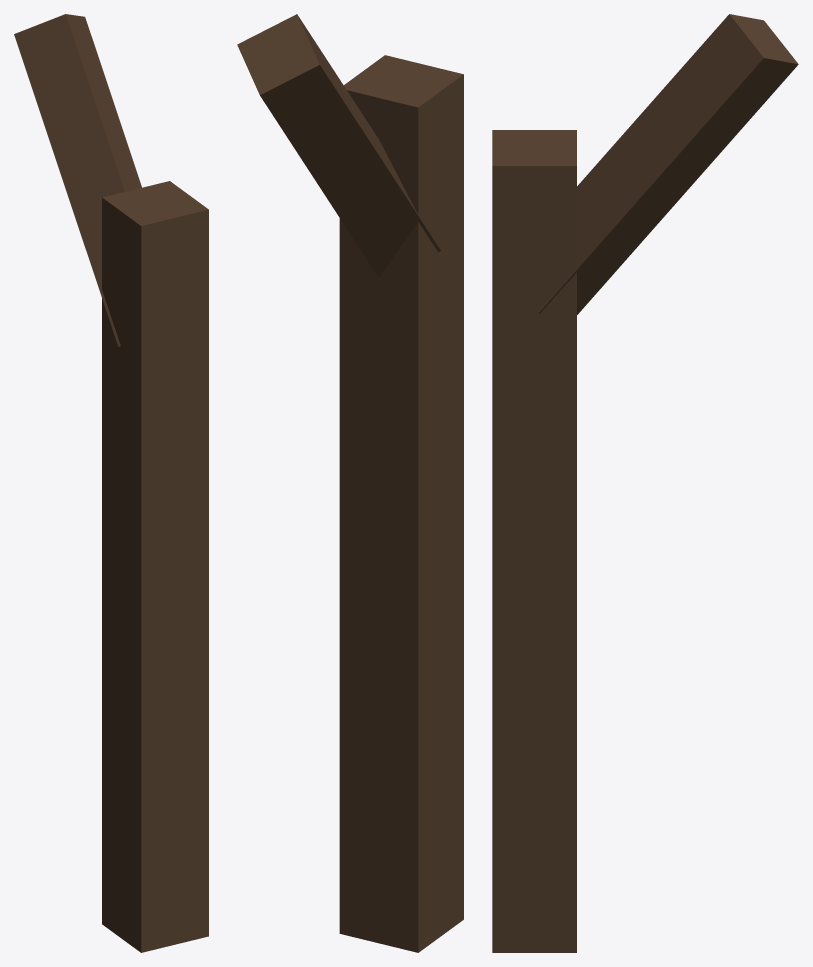
Rendered from pentice_post.glb.
3 renders of one model, left to right at view 1: azimuth 30°, elevation 25°; view 2: azimuth 150°, elevation 25°; view 3: azimuth 270°, elevation 25°, orthographic. The views are drawn at different scales.
Visible parts, largest first — view 1: Pentice post; view 2: Pentice post; view 3: Pentice post.
Part boxes in pixels (left/top/right/bottom): Pentice post: left=14, top=14, right=208, bottom=952; Pentice post: left=237, top=14, right=463, bottom=952; Pentice post: left=492, top=14, right=798, bottom=952.
Size of the model in its own units: 0.126 by 1.44 by 0.4342.
